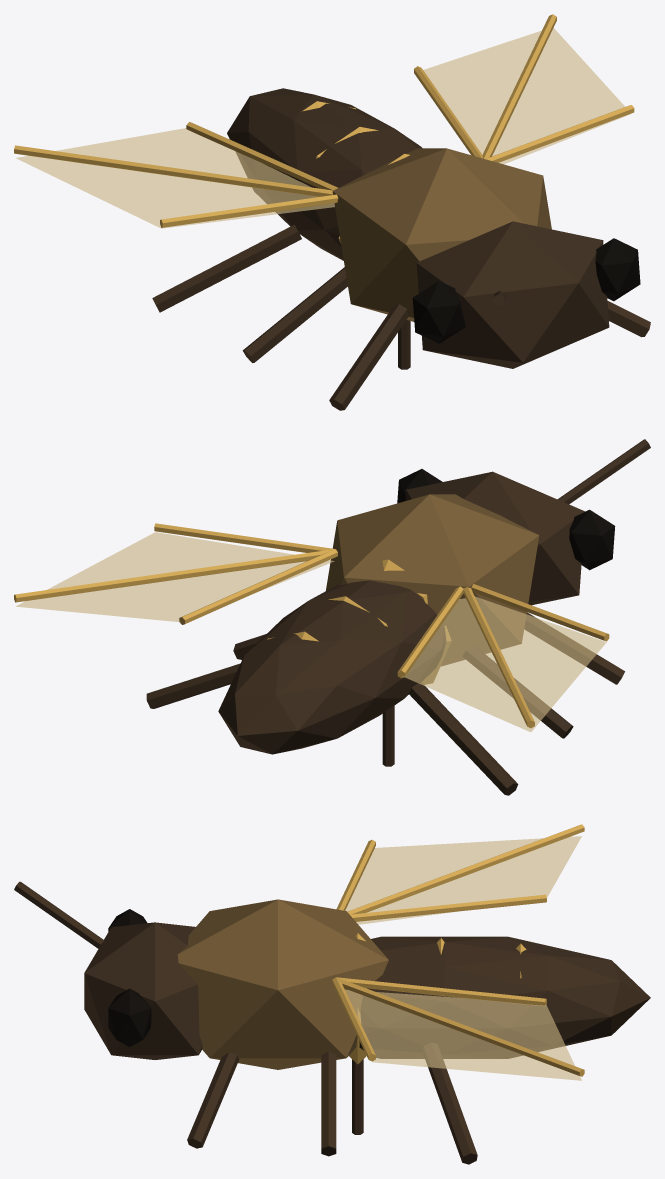
Rendered from abura_zemi.glb.
3 views of the same model, one above another, from view 1: azimuth 30°, elevation 25°; view 2: azimuth 150°, elevation 25°; view 3: azimuth 270°, elevation 25° (orthographic). The views are drawn at different scales.
Visible parts, largest first — view 1: Thorax, Head, Abdomen, LeftWingSurface, RightWingSurface, LeftWingVein2, LeftLeg3, LeftEye, LeftLeg1, LeftLeg2, RightEye, LeftWingVein1 (+6 smaller); view 2: Abdomen, Thorax, LeftWingSurface, RightWingSurface, Head, RightWingVein2, LeftLeg3, LeftEye, LeftLeg1, LeftLeg2, RightLeg3, RightWingVein3 (+8 smaller); view 3: Thorax, Abdomen, RightWingSurface, Head, LeftWingSurface, RightLeg3, RightWingVein2, LeftWingVein2, RightEye, RightLeg1, RightWingVein3, LeftWingVein3 (+5 smaller).
Part boxes in pixels (left/top/right/bottom): Thorax: left=332, top=148, right=551, bottom=321; Head: left=416, top=221, right=609, bottom=368; Abdomen: left=227, top=88, right=422, bottom=260; LeftWingSurface: left=16, top=128, right=334, bottom=228; RightWingSurface: left=423, top=28, right=630, bottom=164; LeftWingVein2: left=14, top=145, right=333, bottom=196; LeftLeg3: left=152, top=224, right=301, bottom=312; LeftEye: left=412, top=281, right=465, bottom=343; LeftLeg1: left=329, top=304, right=408, bottom=410; LeftLeg2: left=242, top=267, right=347, bottom=362; RightEye: left=595, top=238, right=640, bottom=301; LeftWingVein1: left=160, top=194, right=338, bottom=227; Abdomen: left=218, top=580, right=445, bottom=754; Thorax: left=326, top=494, right=539, bottom=666; LeftWingSurface: left=402, top=596, right=606, bottom=731; RightWingSurface: left=16, top=532, right=334, bottom=622; Head: left=405, top=471, right=584, bottom=605; RightWingVein2: left=14, top=549, right=334, bottom=602; LeftLeg3: left=409, top=683, right=518, bottom=795; LeftEye: left=569, top=509, right=615, bottom=570; LeftLeg1: left=524, top=612, right=624, bottom=684; LeftLeg2: left=462, top=645, right=573, bottom=738; RightLeg3: left=146, top=663, right=240, bottom=708; RightWingVein3: left=179, top=549, right=337, bottom=624; Thorax: left=177, top=899, right=388, bottom=1069; Abdomen: left=359, top=936, right=650, bottom=1058; RightWingSurface: left=345, top=989, right=581, bottom=1080; Head: left=84, top=922, right=202, bottom=1059; LeftWingSurface: left=345, top=836, right=581, bottom=924; RightLeg3: left=422, top=1042, right=477, bottom=1164; RightWingVein2: left=336, top=977, right=584, bottom=1076; LeftWingVein2: left=347, top=824, right=584, bottom=914; RightEye: left=108, top=988, right=151, bottom=1047; RightLeg1: left=187, top=1052, right=239, bottom=1148; RightWingVein3: left=337, top=977, right=546, bottom=1006; LeftWingVein3: left=350, top=894, right=546, bottom=921.
Bounding box in the file's own units: 0.8078 × 0.3557 × 0.8799.
